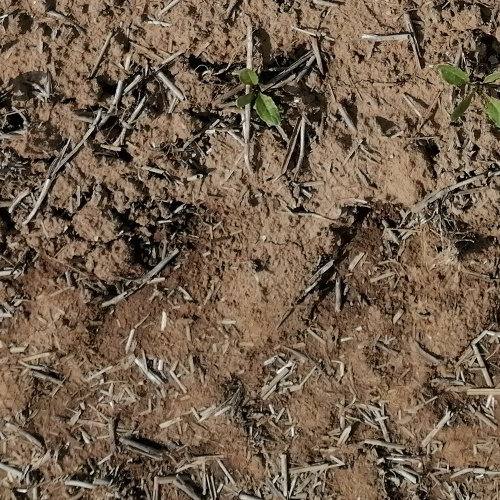beet: (435, 63, 500, 130), (234, 67, 282, 125)
